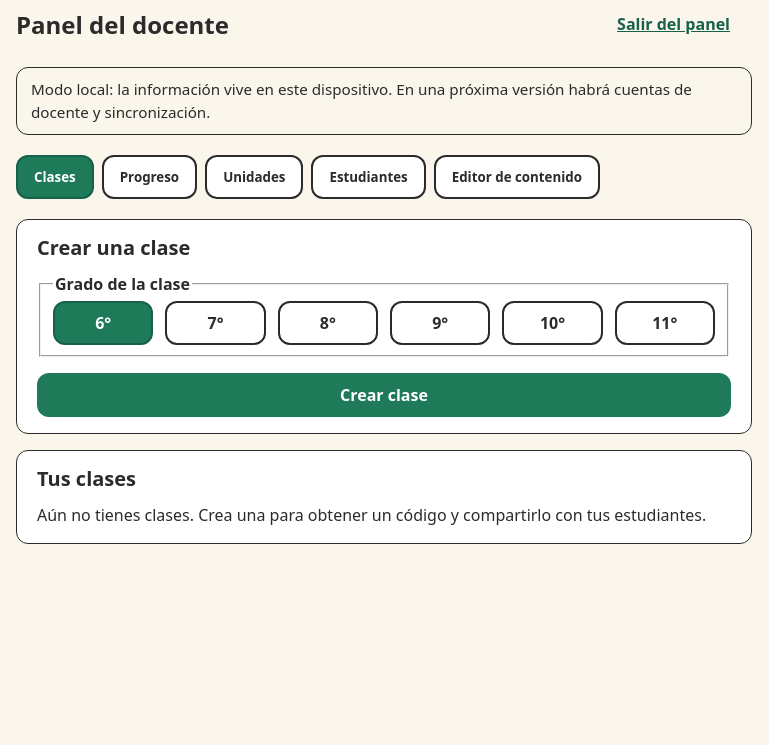
it: PanelDocente › navega a "Editor de contenido" y muestra el editor (chunk lazy)
The width and height of the screenshot is (769, 745).
Check: the navigation bar named "Secciones del panel" is shown, box [16,155,600,199]
Click the button "Editor de contenido". click: click(517, 177)
box: [434,155,600,199]
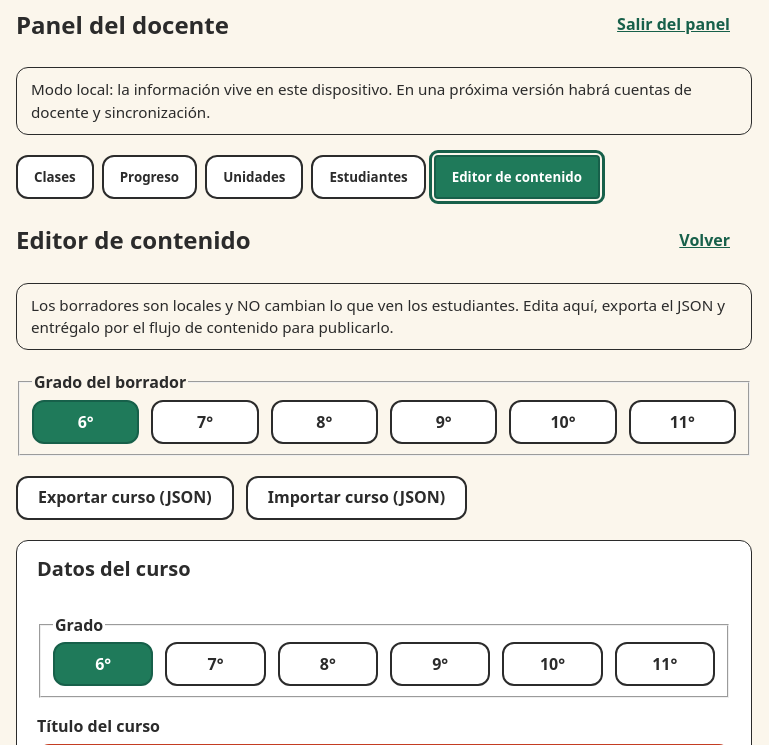
Check: the heading "Editor de contenido" is shown, box [16,226,251,255]
Check: the text "Los borradores son locales" is shown, box [31,295,725,337]
